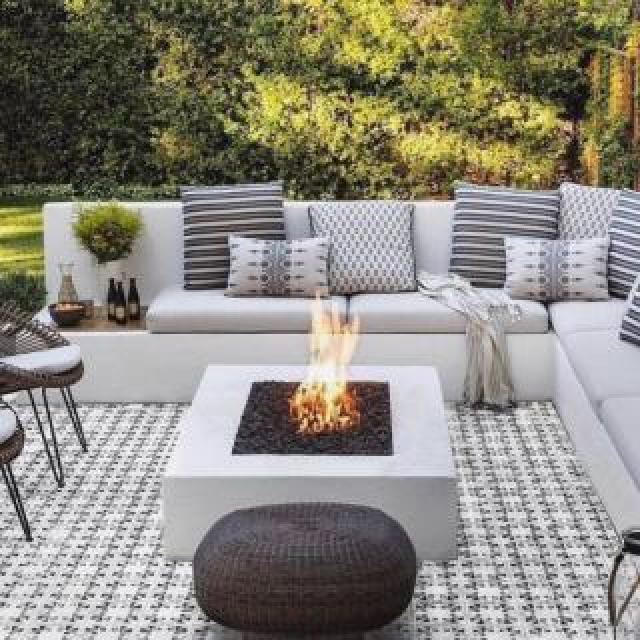Fire: (294, 290, 370, 438)
